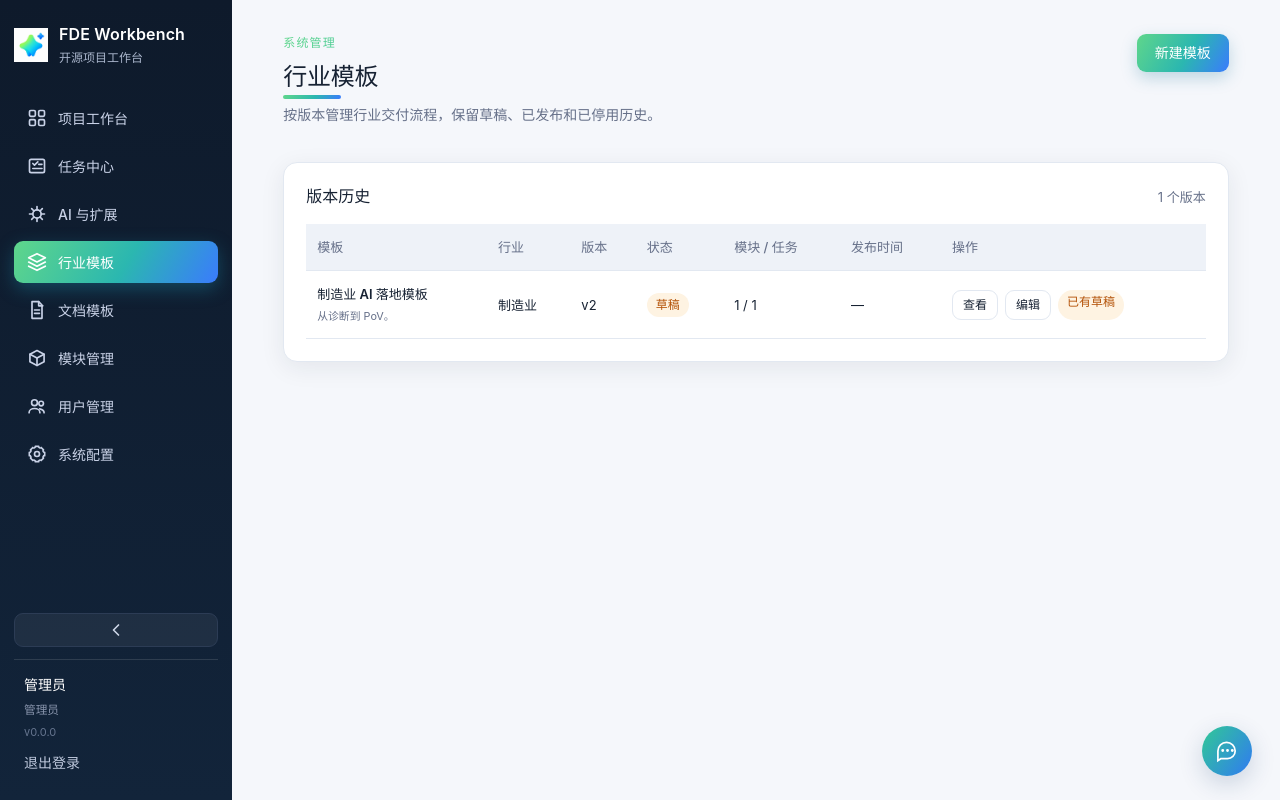
Test: 行业模板版本管理 › 发布 stale 时保留草稿且不自动重试
This screenshot has width=1280, height=800.
Click the button with aria-label "编辑 v2": click(1028, 305) top-left (1005, 290), bottom-right (1051, 320)
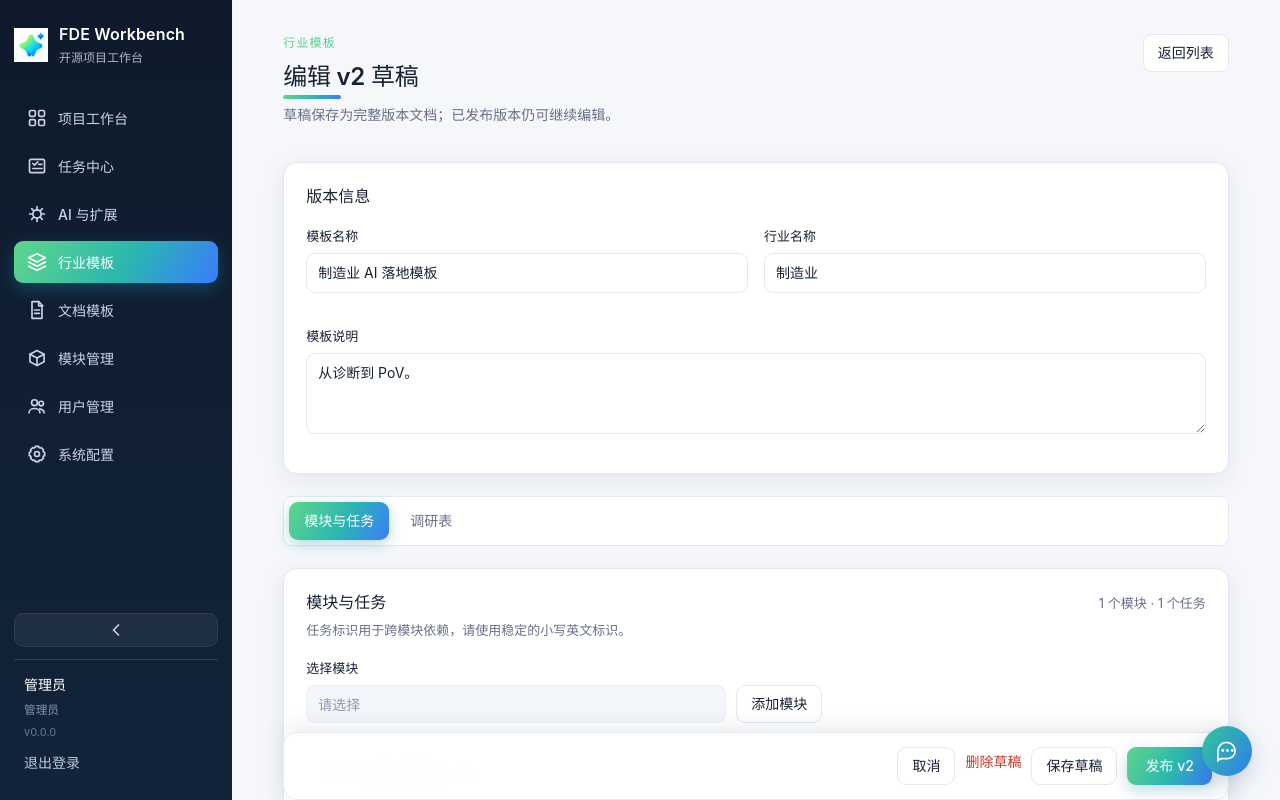
Replace the text in the text box labelled "模板说明" with "本地待发布草稿": (756, 394) top-left (306, 353), bottom-right (1206, 434)
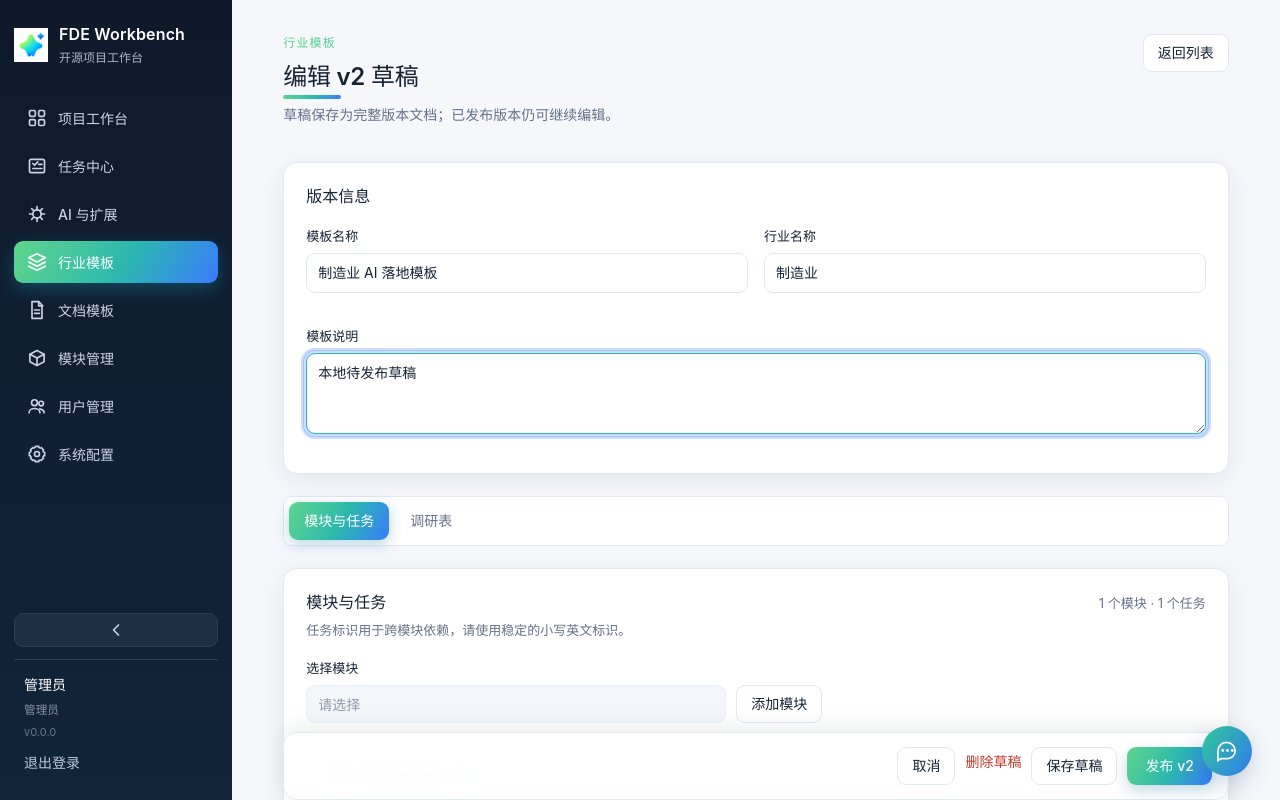
Click the button "发布 v2": click(1170, 766) top-left (1127, 747), bottom-right (1212, 785)
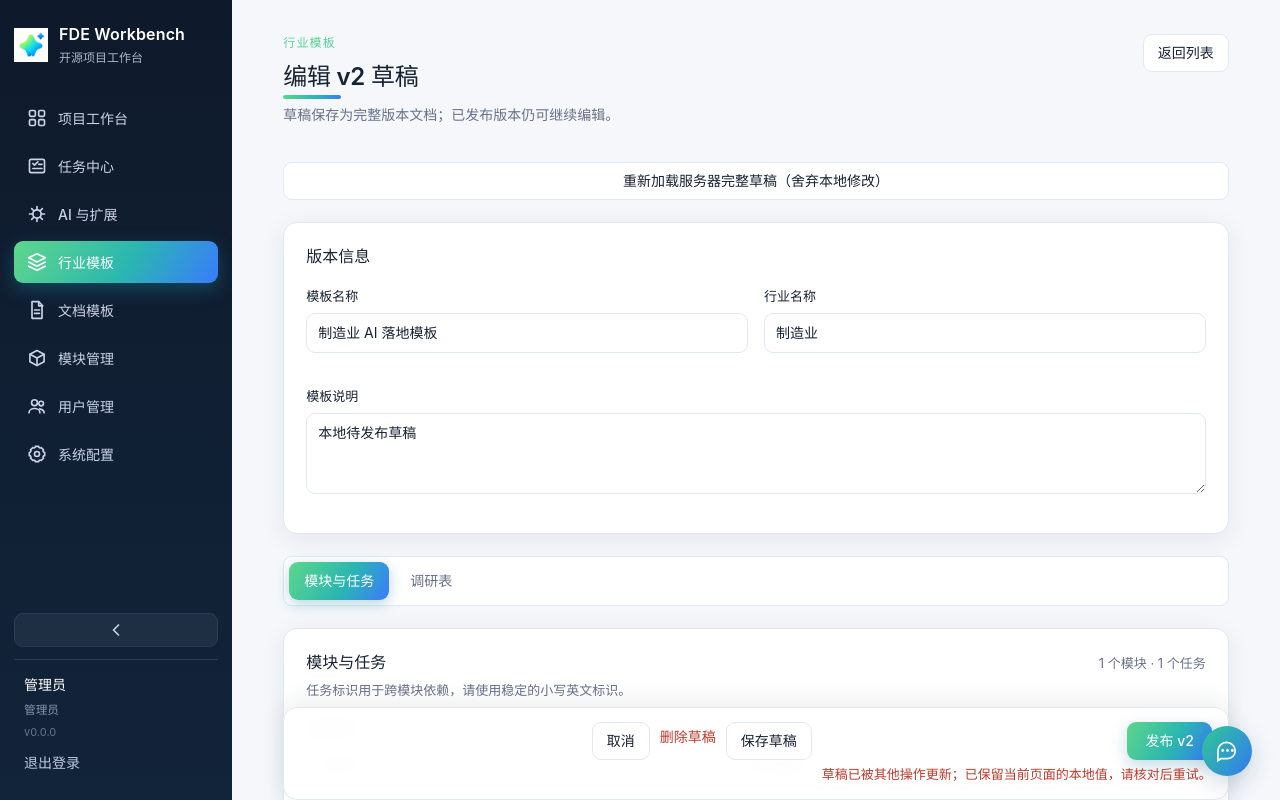
Now the message shows "草稿已被其他操作更新", box top-left (822, 766), bottom-right (1212, 782)
Click the button "重新加载服务器完整草稿（舍弃本地修改）": click(756, 181) top-left (283, 162), bottom-right (1229, 200)
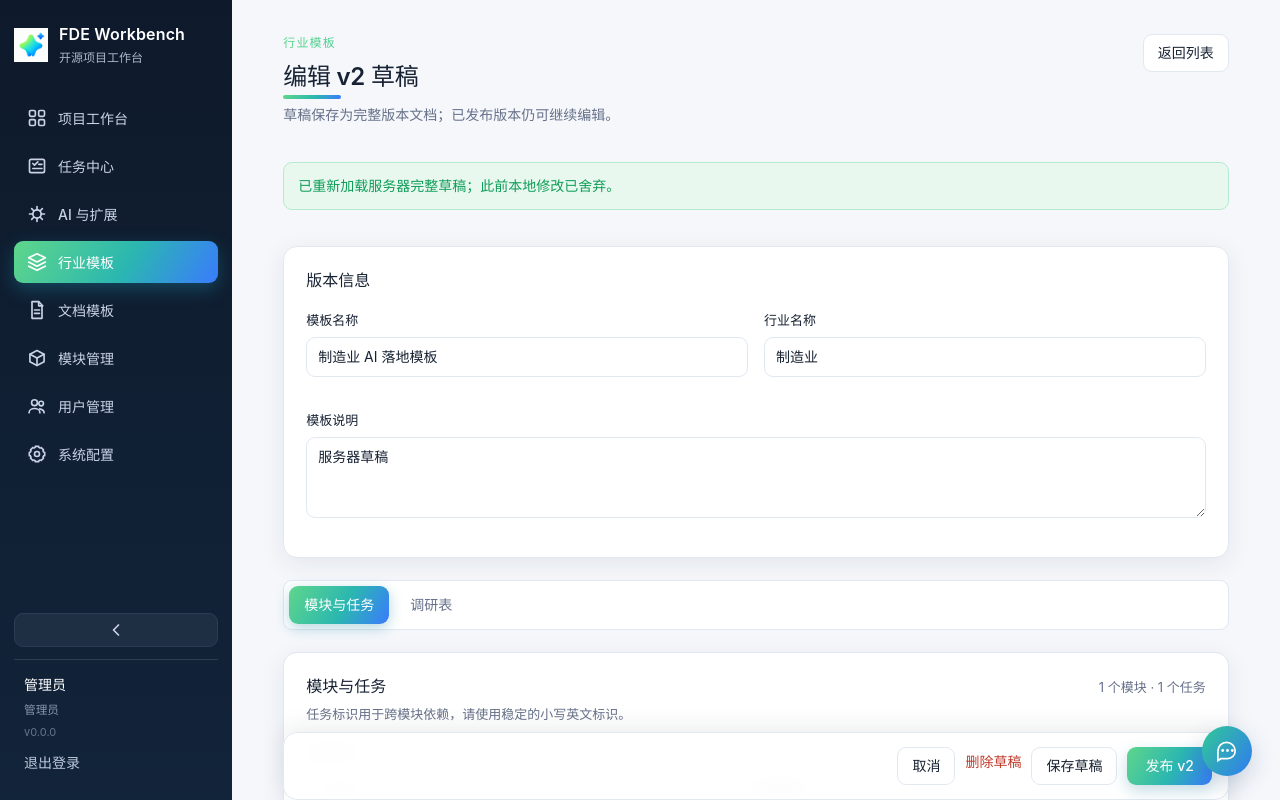
Now the text box labelled "模板说明" holds "服务器草稿", box top-left (306, 437), bottom-right (1206, 518)
